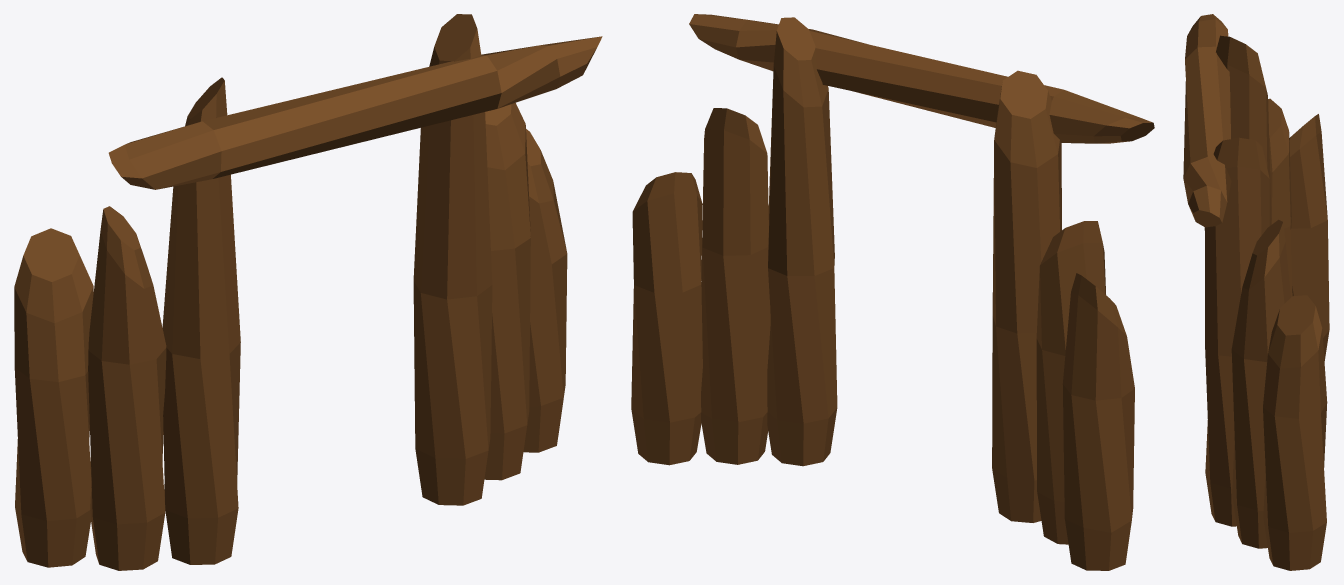
Rendered from E_B_Entrance.fbx.
The picture shows the model from 3 angles, left to right: view 1: azimuth 30°, elevation 25°; view 2: azimuth 150°, elevation 25°; view 3: azimuth 270°, elevation 25°; orthographic projection. The views are drawn at different scales.
Parts seen in each view (by area): view 1: E_B_Entrance; view 2: E_B_Entrance; view 3: E_B_Entrance.
Boxes of the visible parts, x1=… form: E_B_Entrance: x1=14, y1=14, x2=602, y2=570; E_B_Entrance: x1=631, y1=14, x2=1154, y2=570; E_B_Entrance: x1=1183, y1=14, x2=1329, y2=570.
Bounding box in the file's own units: 551 × 459 × 158.
